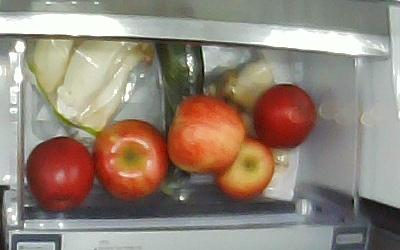apple: (90, 117, 169, 200), (165, 93, 244, 174), (24, 135, 95, 212), (251, 82, 316, 149), (211, 134, 275, 200)
